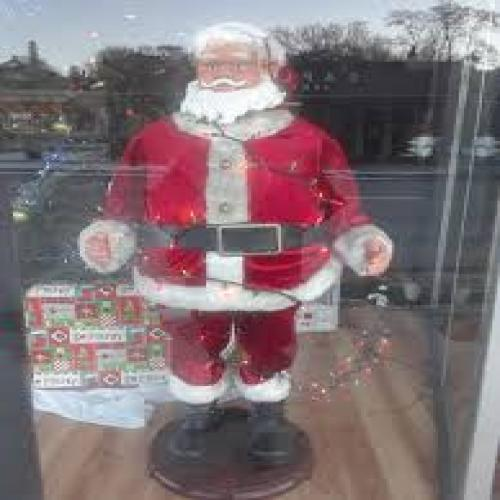Santa: (75, 24, 395, 462)
